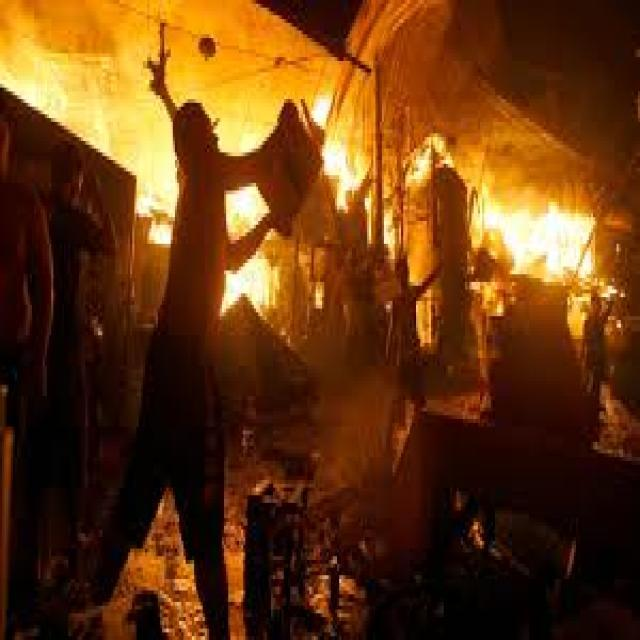Fire: (478, 188, 605, 294), (311, 98, 373, 223), (224, 250, 288, 326)
